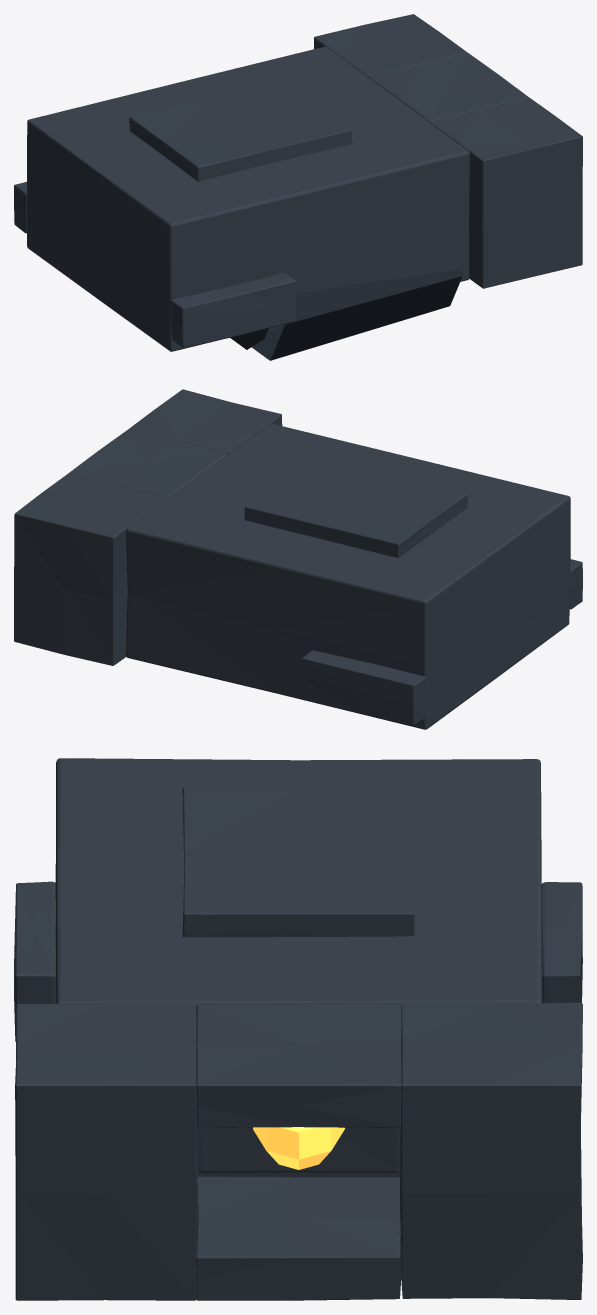
The model's file is enemy_gunship.glb.
3 renders of one model, top to bottom at view 1: azimuth 30°, elevation 25°; view 2: azimuth 150°, elevation 25°; view 3: azimuth 270°, elevation 25°, orthographic. The views are drawn at different scales.
Parts seen in each view (by area): view 1: VR_Gunship_Hull, VR_Gunship_Nacelle; view 2: VR_Gunship_Hull; view 3: VR_Gunship_Hull, VR_Gunship_Bay.
Boxes of the visible parts, x1,y1,x2,y2 form: VR_Gunship_Hull: (14, 14, 582, 351); VR_Gunship_Nacelle: (230, 269, 463, 360); VR_Gunship_Hull: (14, 389, 582, 729); VR_Gunship_Hull: (14, 758, 582, 1300); VR_Gunship_Bay: (253, 1127, 344, 1169).
Size of the model in its own units: 4.17 by 1.82 by 3.06.
